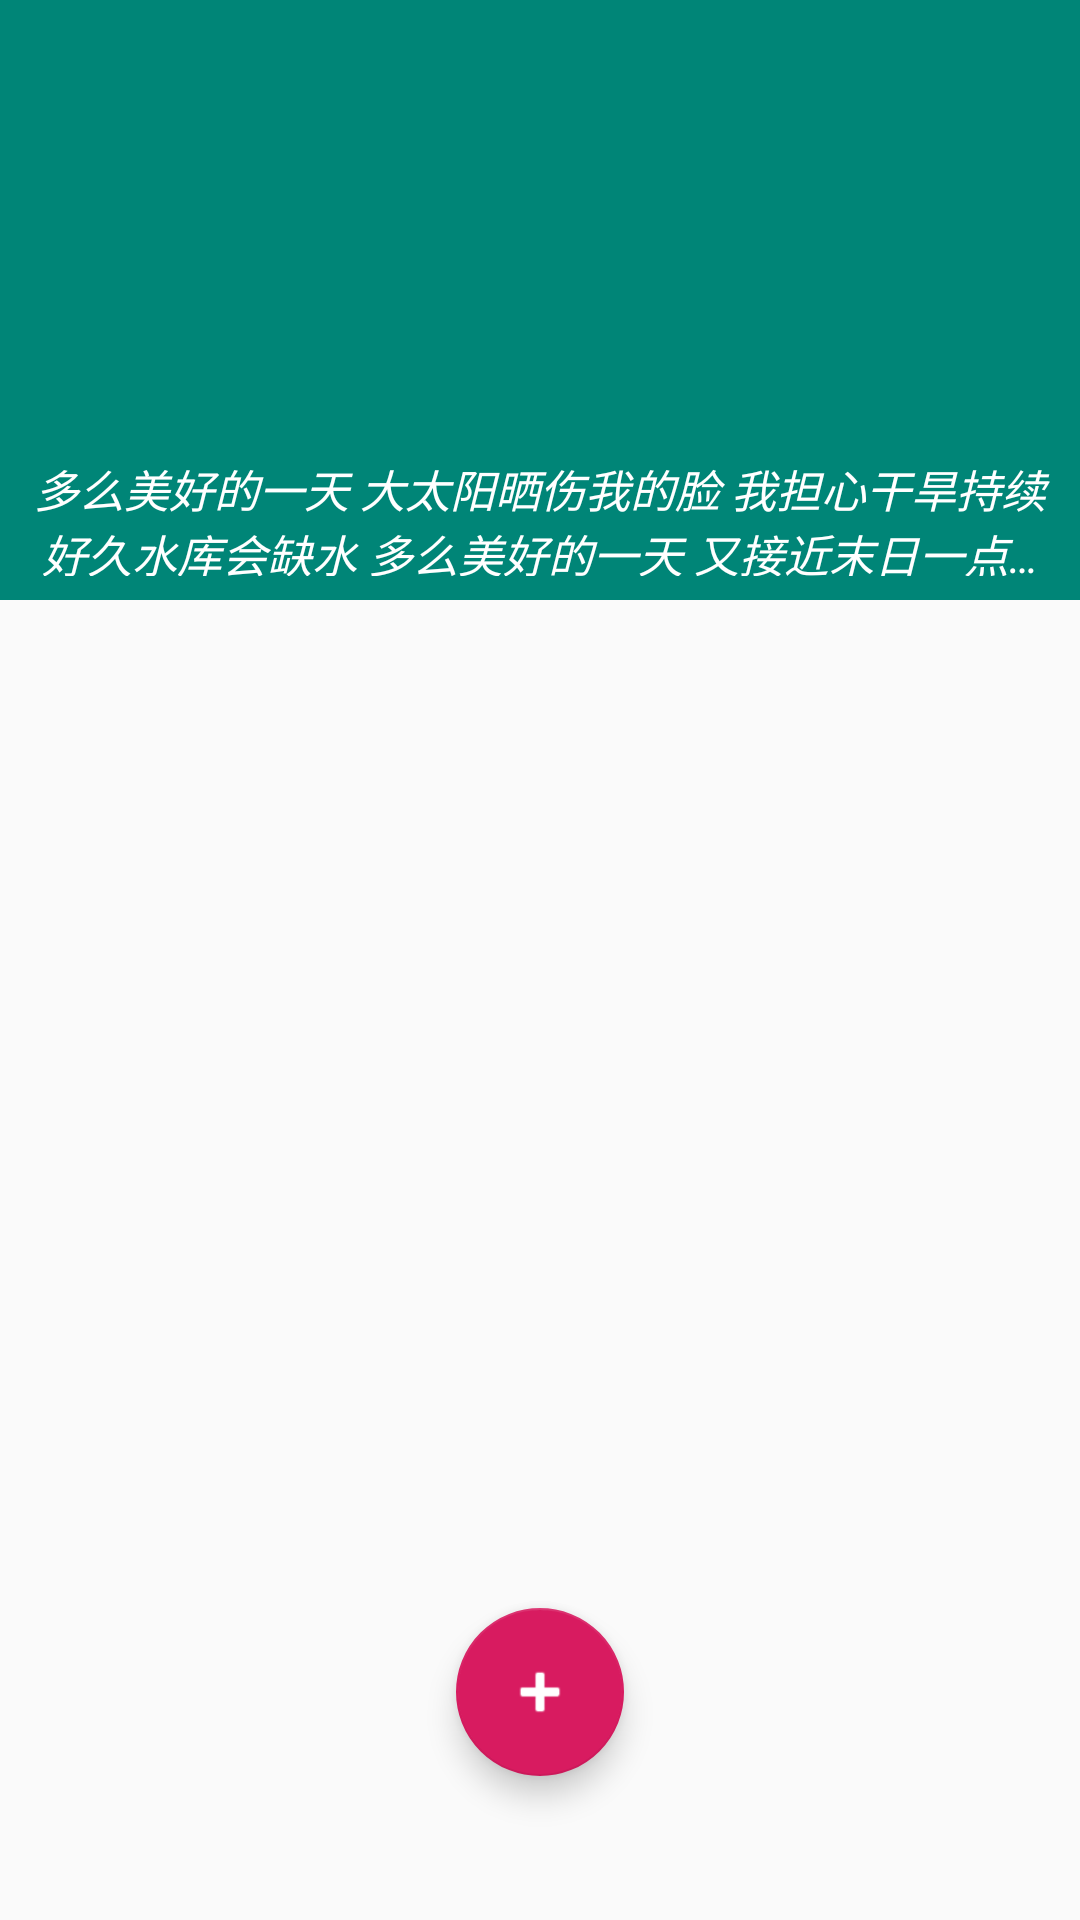

Icon click points for this 1080w x 1920h phone screenshot, format point (x, y):
add: point (540, 1692)
